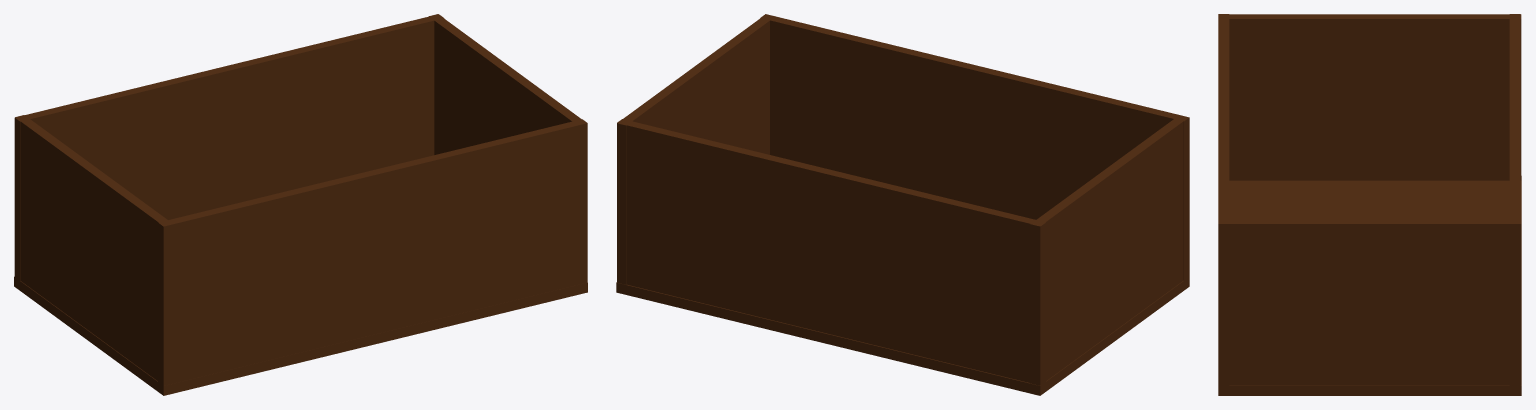
The picture shows the model from 3 angles, left to right: view 1: azimuth 30°, elevation 25°; view 2: azimuth 150°, elevation 25°; view 3: azimuth 270°, elevation 25°; orthographic projection.
Parts seen in each view (by area): view 1: Floor_1, Floor_3, Floor_4, Floor_2, Platform; view 2: Floor_3, Floor_1, Floor_4, Floor_2, Platform; view 3: Floor_2, Floor_4, Platform, Floor_1, Floor_3.
Boxes of the visible parts, x1,y1,x2,y2 form: Floor_1: (158, 119, 587, 385); Floor_3: (14, 14, 443, 280); Floor_4: (15, 115, 172, 380); Floor_2: (429, 14, 586, 154); Platform: (14, 276, 587, 395); Floor_3: (617, 119, 1046, 385); Floor_1: (760, 14, 1189, 280); Floor_4: (1030, 115, 1187, 385); Floor_2: (617, 14, 774, 284); Platform: (616, 277, 1189, 395); Floor_2: (1219, 219, 1521, 385); Floor_4: (1219, 14, 1521, 180); Platform: (1218, 176, 1521, 395); Floor_1: (1218, 14, 1229, 385); Floor_3: (1509, 14, 1520, 385).
Bounding box in the file's own units: 401 × 153 × 245.
